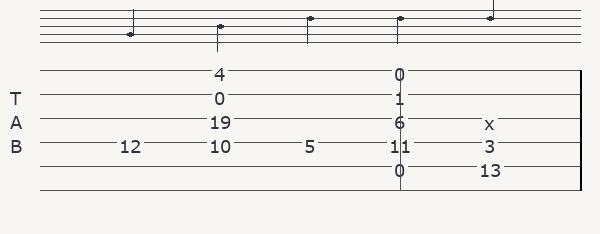0: (214, 86, 229, 103), (394, 158, 409, 175), (394, 62, 409, 79)
1: (394, 86, 409, 103)
10: (209, 134, 235, 151)
11: (389, 134, 415, 151)
12: (119, 134, 145, 151)
13: (479, 158, 505, 175)
19: (209, 110, 235, 127)
3: (484, 134, 499, 151)
4: (214, 62, 229, 79)
5: (304, 134, 319, 151)
6: (394, 110, 409, 127)
x: (484, 111, 499, 125)
